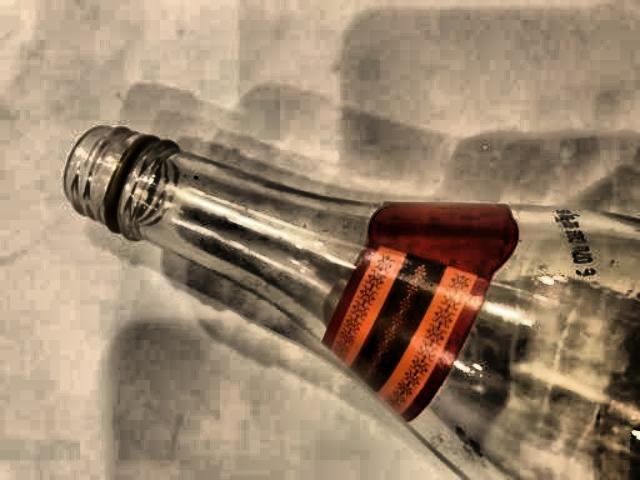Bottles: (53, 107, 640, 480)
